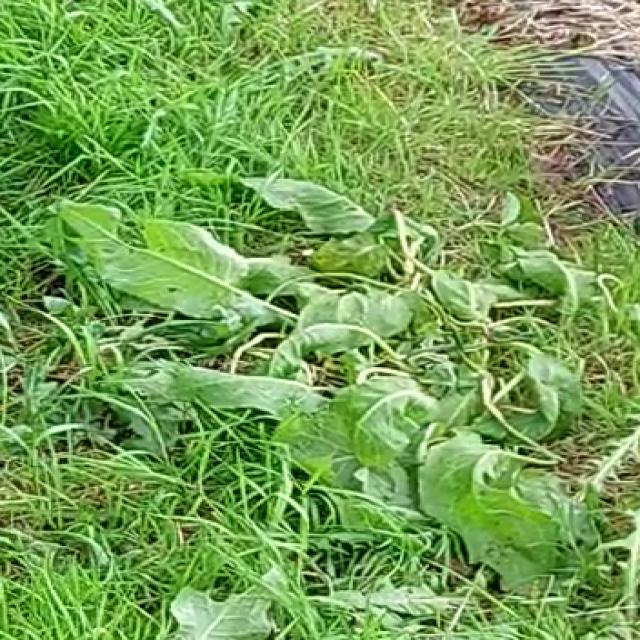organic waste: (71, 147, 634, 572)
